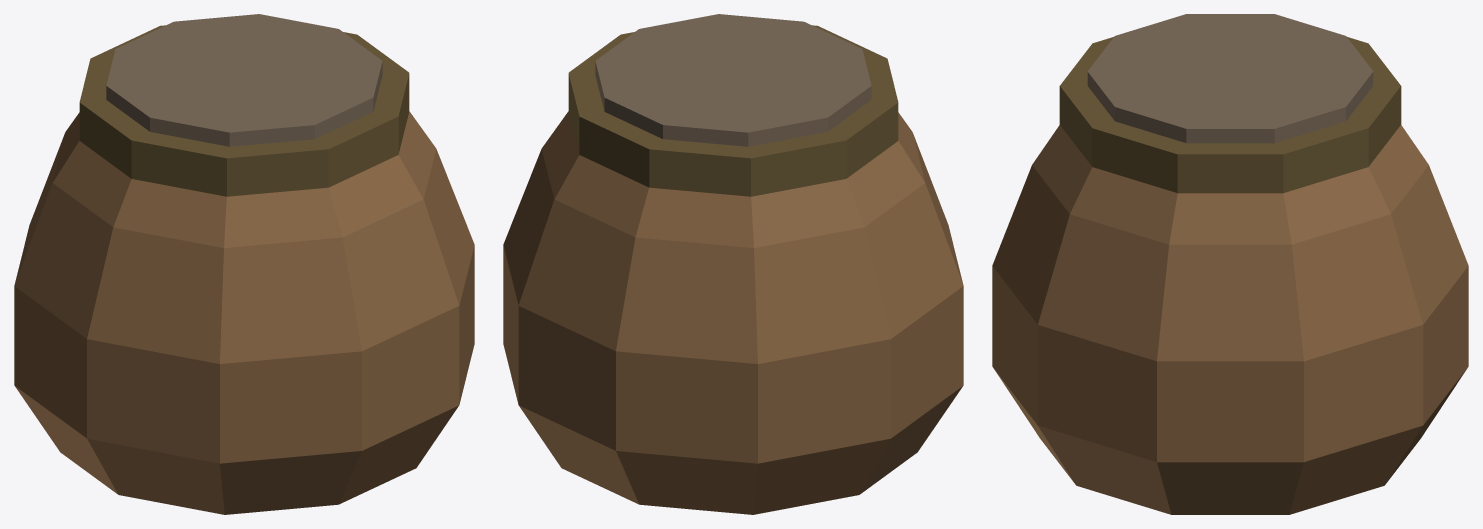
Rendered from ce_ammo2_sling_stone_c.obj.
The picture shows the model from 3 angles, left to right: view 1: azimuth 30°, elevation 25°; view 2: azimuth 150°, elevation 25°; view 3: azimuth 270°, elevation 25°; orthographic projection.
Parts seen in each view (by area): view 1: ce_ammo2_sling_stone_c_0, ce_ammo2_sling_stone_c_2, ce_ammo2_sling_stone_c_1; view 2: ce_ammo2_sling_stone_c_0, ce_ammo2_sling_stone_c_2, ce_ammo2_sling_stone_c_1; view 3: ce_ammo2_sling_stone_c_0, ce_ammo2_sling_stone_c_2, ce_ammo2_sling_stone_c_1.
Boxes of the visible parts, x1,y1,x2,y2 form: ce_ammo2_sling_stone_c_0: (14,111,474,514); ce_ammo2_sling_stone_c_2: (106,14,382,146); ce_ammo2_sling_stone_c_1: (79,25,409,196); ce_ammo2_sling_stone_c_0: (503,111,963,514); ce_ammo2_sling_stone_c_2: (595,14,871,146); ce_ammo2_sling_stone_c_1: (568,25,898,196); ce_ammo2_sling_stone_c_0: (992,125,1468,514); ce_ammo2_sling_stone_c_2: (1087,14,1373,143); ce_ammo2_sling_stone_c_1: (1059,37,1401,193).
Size of the model in its own units: 0.5706 by 0.51 by 0.6.
